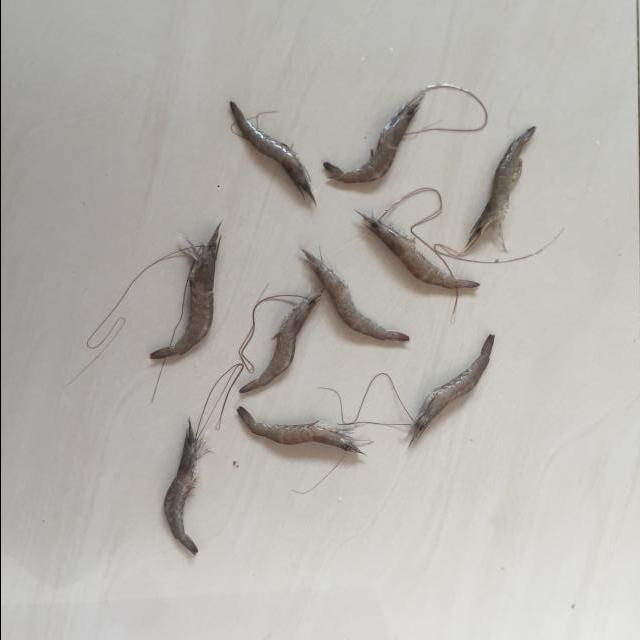shrimp: (300, 248, 408, 342), (148, 223, 219, 359), (323, 90, 424, 183), (358, 212, 479, 289), (464, 126, 536, 252), (411, 335, 494, 444), (229, 101, 314, 205), (238, 289, 322, 393), (236, 407, 360, 453), (163, 419, 202, 556)
